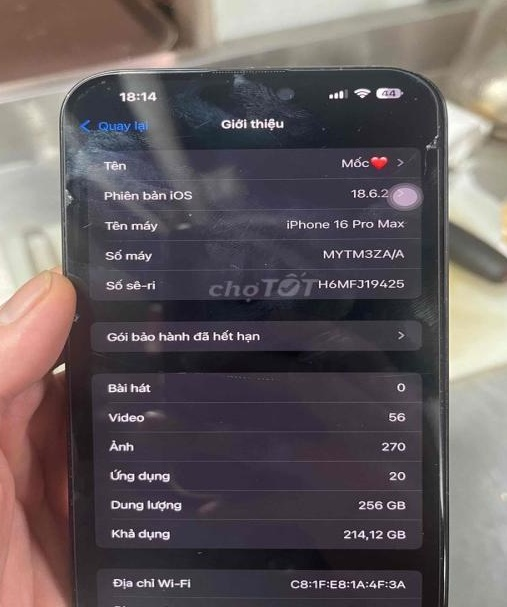screen_defect: (419, 109, 465, 173), (57, 163, 92, 227)
